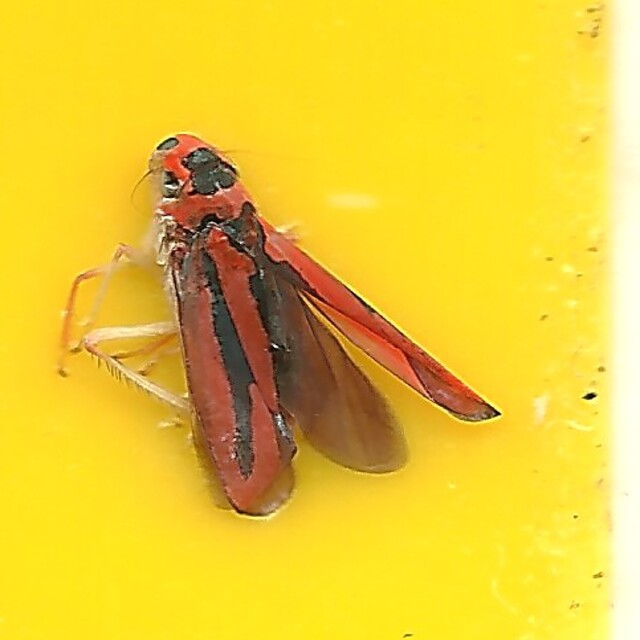Hemiptera: (133, 121, 507, 519)
